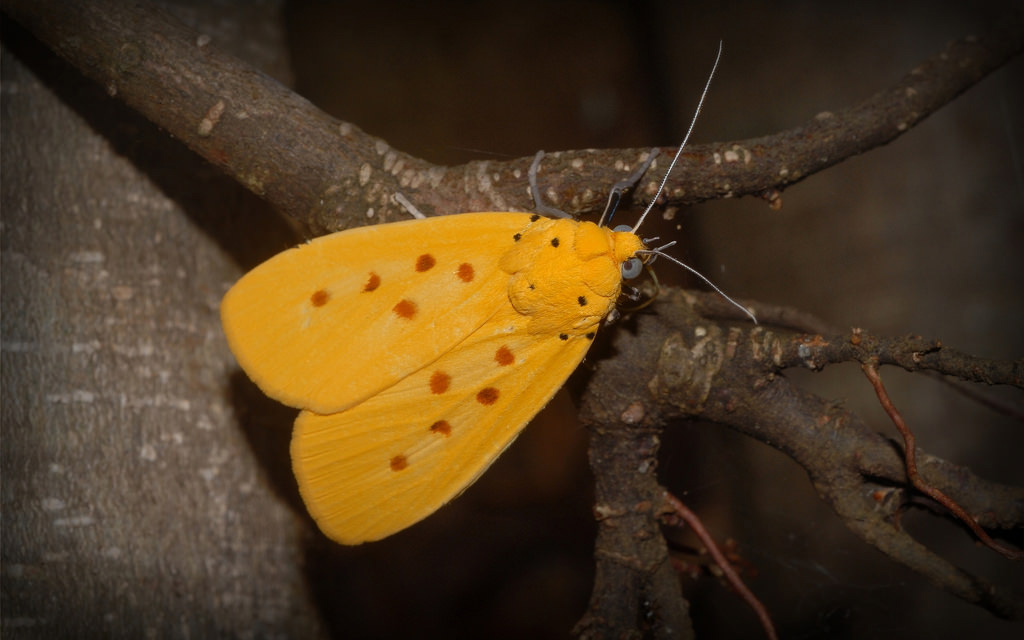Agape chloropyga: (215, 40, 764, 552)
moth: (213, 38, 762, 550)
